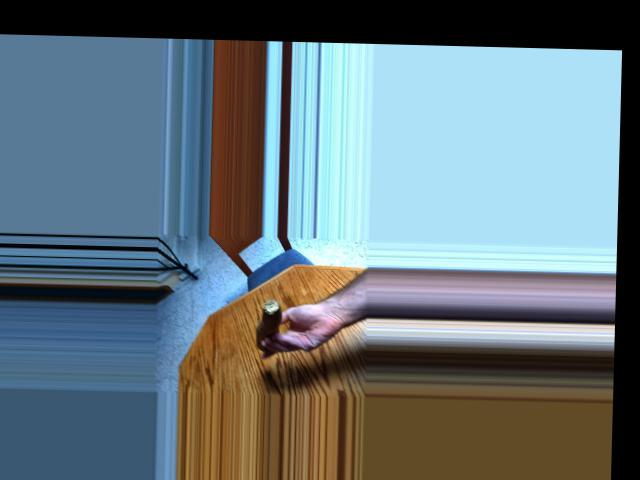sweet_potato: (253, 292, 295, 354)
